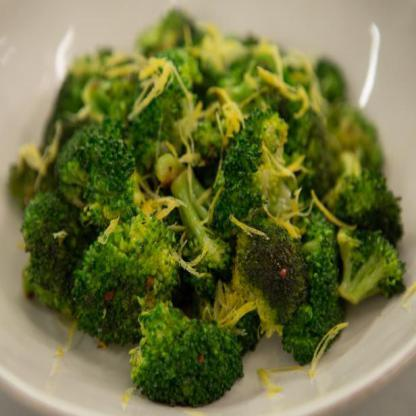broccoli: (7, 6, 406, 411)
